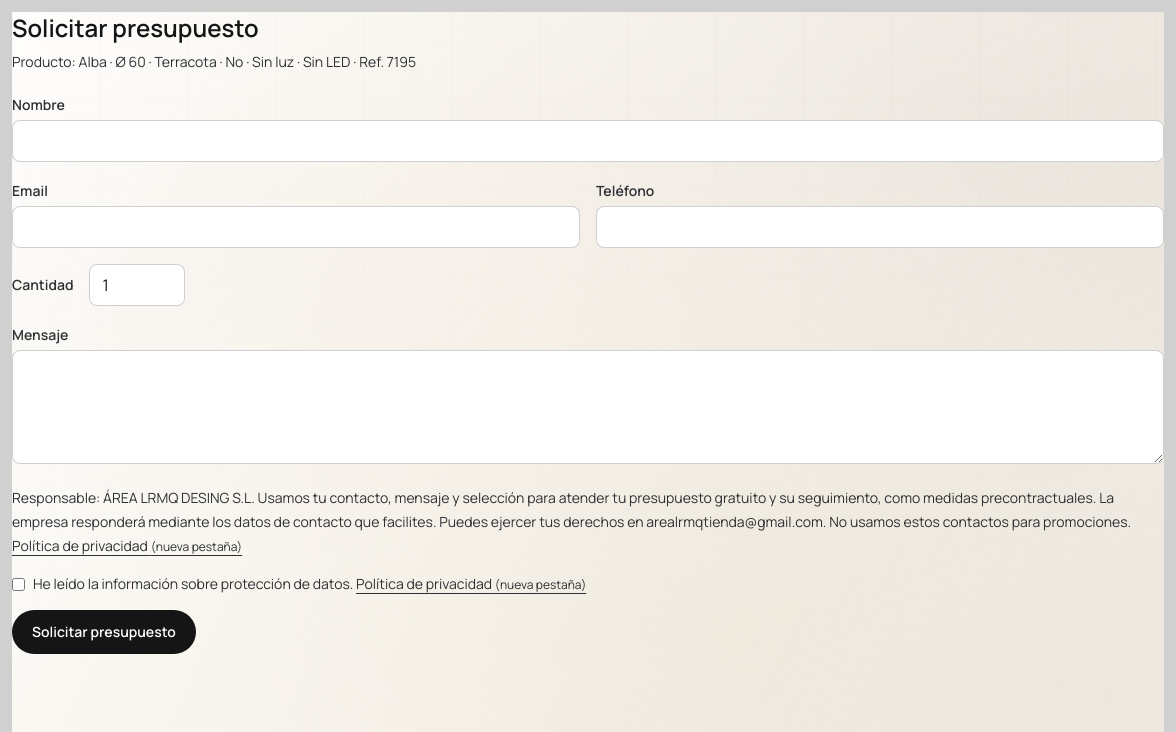
QuoteRequestForm › keeps entered values and associates server validation errors
In the field labelled "Nombre": (588,141) [12, 120, 1164, 162], type "Ana"
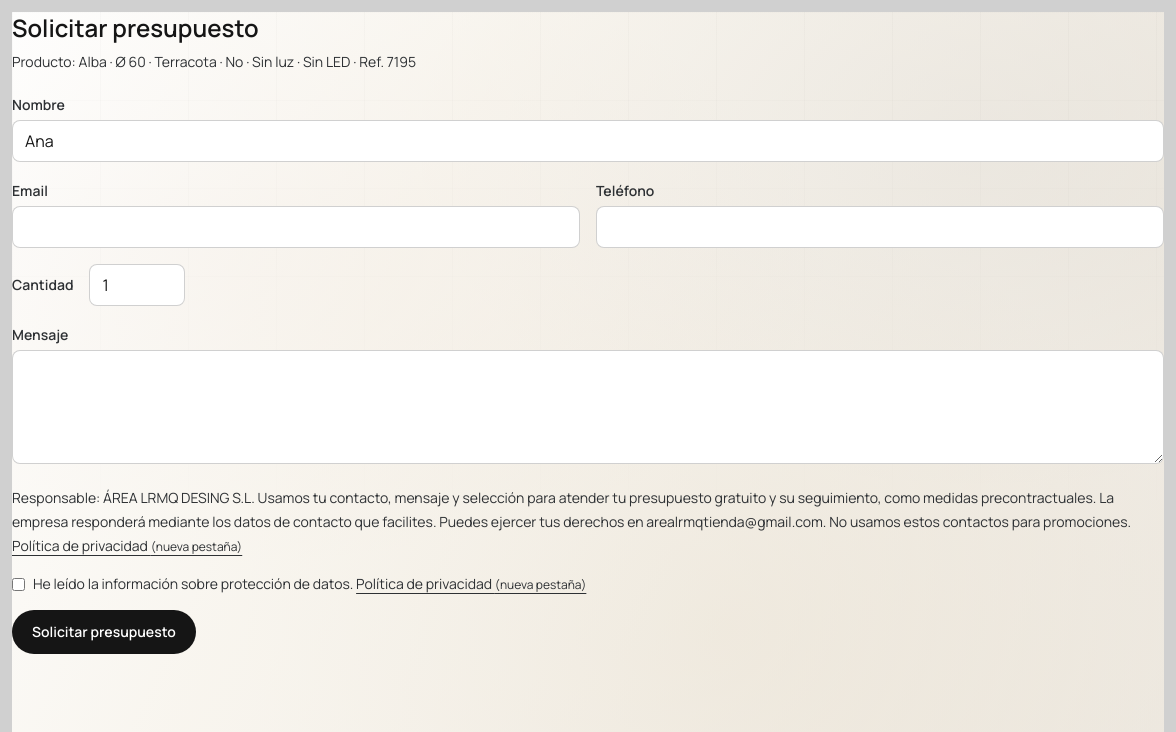
In the field labelled "Email": (296,227) [12, 206, 580, 248], type "ana@example.com"
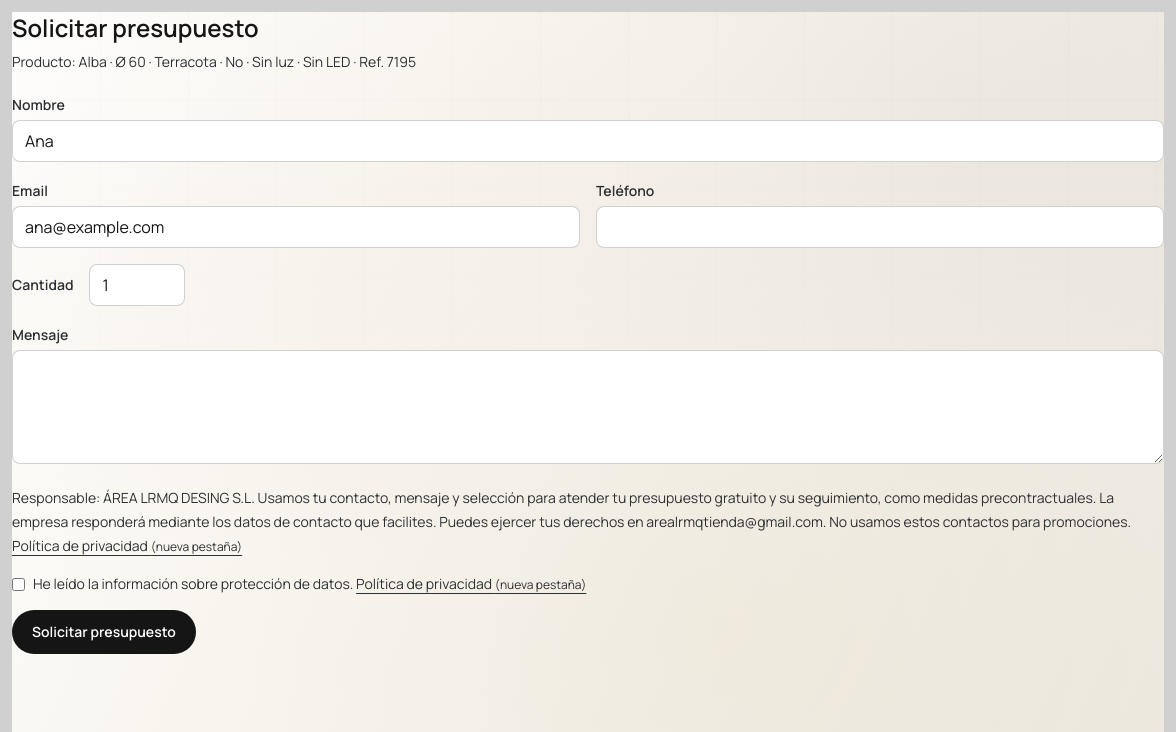
Click the checkbox: (18,584) [12, 578, 25, 591]
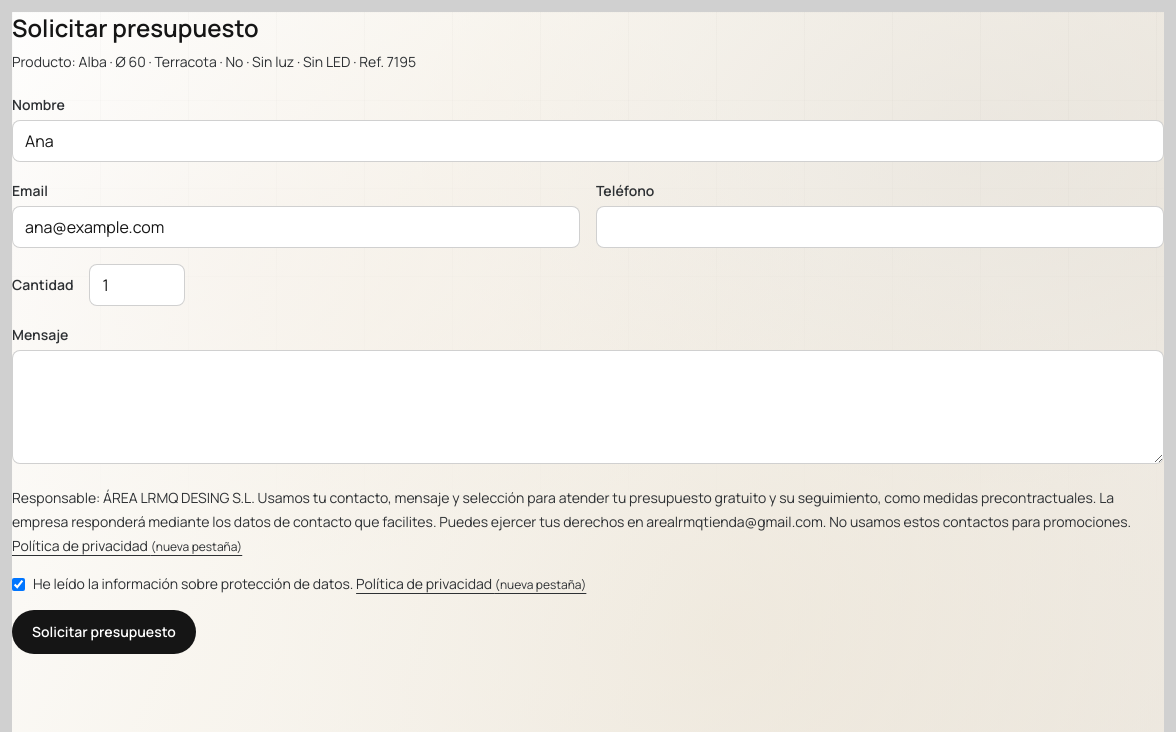
Click the button "Solicitar presupuesto": (104,632) [12, 610, 196, 654]
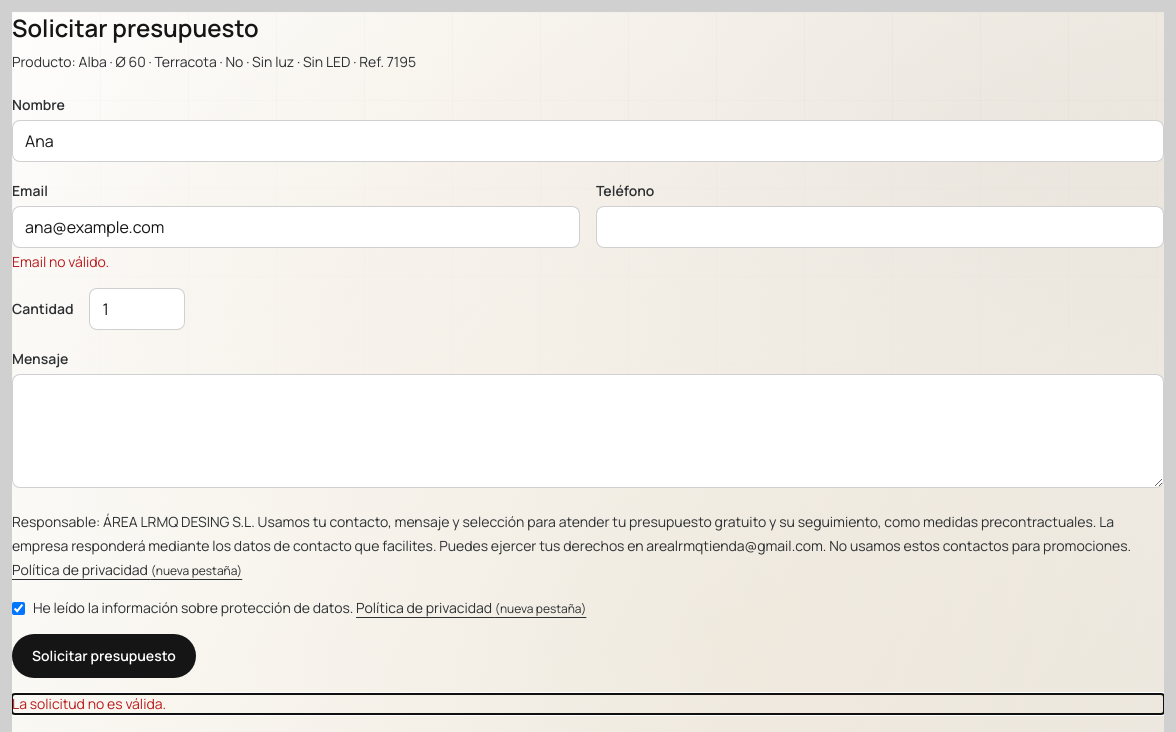
Expected: the text "Email no válido." is shown, [12, 252, 109, 271]
